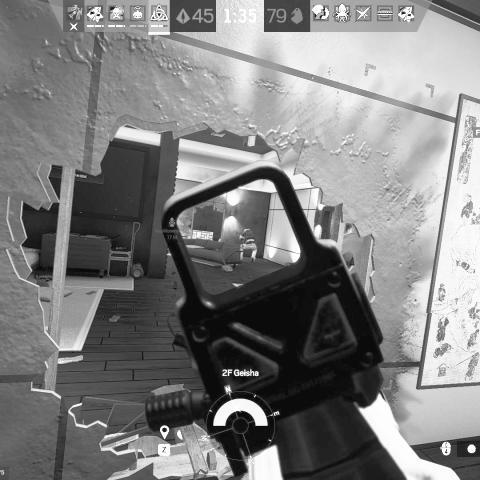Character: (238, 227, 260, 263)
